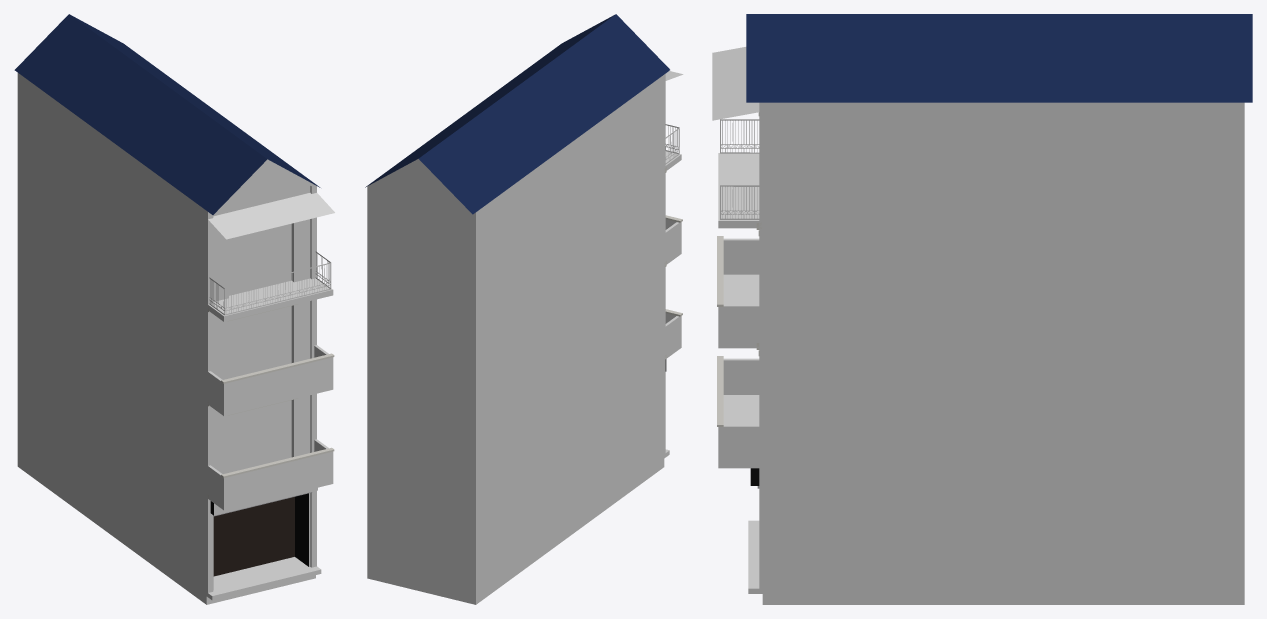
The picture shows the model from 3 angles, left to right: view 1: azimuth 30°, elevation 25°; view 2: azimuth 150°, elevation 25°; view 3: azimuth 270°, elevation 25°; orthographic projection. The views are drawn at different scales.
Visible parts, largest first — view 1: TH_D12_C_00_LOD0; view 2: TH_D12_C_00_LOD0; view 3: TH_D12_C_00_LOD0.
Part boxes in pixels (x1,y1,x2,y2): TH_D12_C_00_LOD0: [14, 14, 334, 604]; TH_D12_C_00_LOD0: [365, 14, 683, 604]; TH_D12_C_00_LOD0: [712, 14, 1252, 604].
Size of what is drawn, in the model's own units: 4.06 by 15.3 by 13.45.
